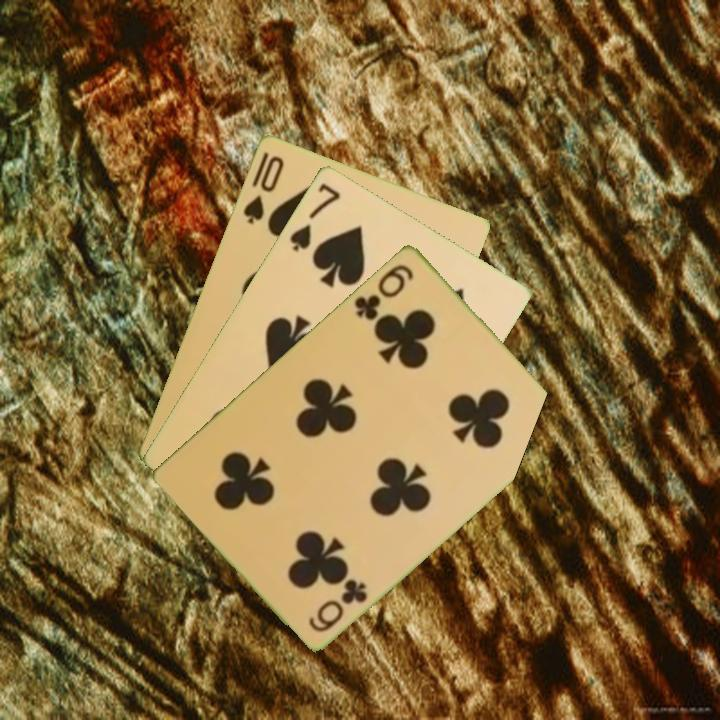10s: (239, 151, 287, 227)
6c: (350, 260, 417, 323), (304, 574, 371, 635)
7s: (286, 178, 344, 254)
